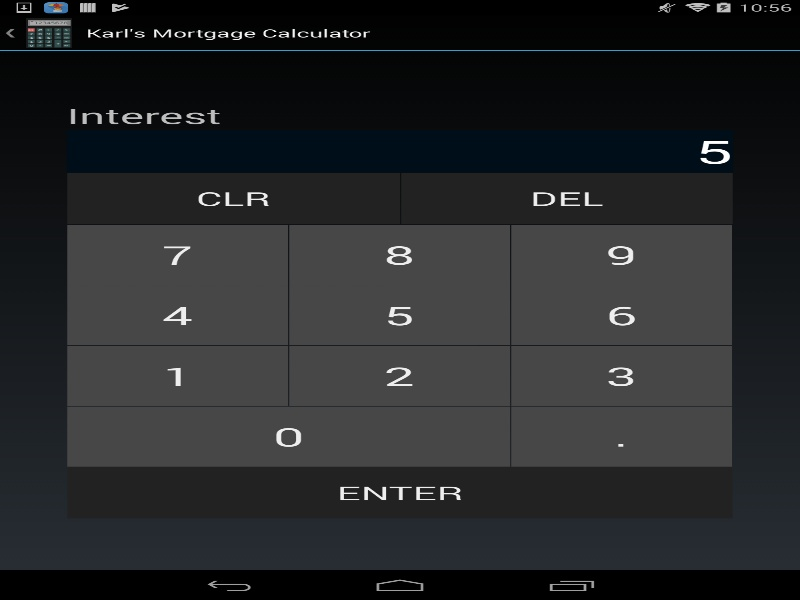Button: (67, 467, 732, 518), (67, 406, 509, 466), (67, 172, 400, 224), (401, 172, 732, 224), (67, 224, 288, 284), (511, 224, 732, 284), (67, 285, 288, 345), (511, 285, 732, 345), (67, 345, 288, 405), (511, 345, 732, 405), (511, 406, 732, 466), (289, 224, 509, 284), (289, 285, 509, 345), (289, 345, 509, 405)
Input: (66, 130, 733, 172)
